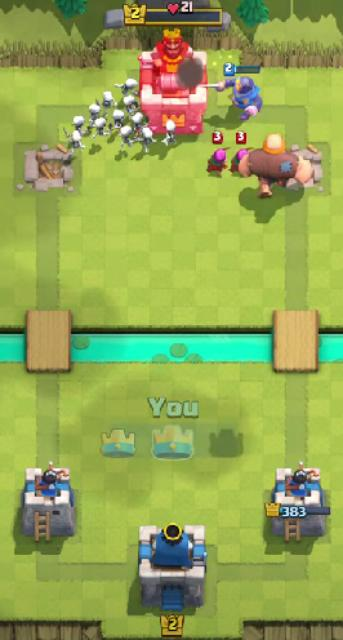ally_melee: (237, 132, 314, 199), (221, 62, 264, 121), (59, 126, 86, 154), (114, 77, 141, 100), (138, 127, 158, 154), (92, 119, 114, 141), (161, 120, 178, 148), (97, 92, 117, 114), (72, 115, 89, 138), (121, 94, 138, 117), (118, 125, 136, 146), (86, 103, 101, 126), (113, 109, 126, 128), (132, 112, 144, 132)
enemy_melee: (231, 131, 253, 178), (209, 131, 229, 178)
